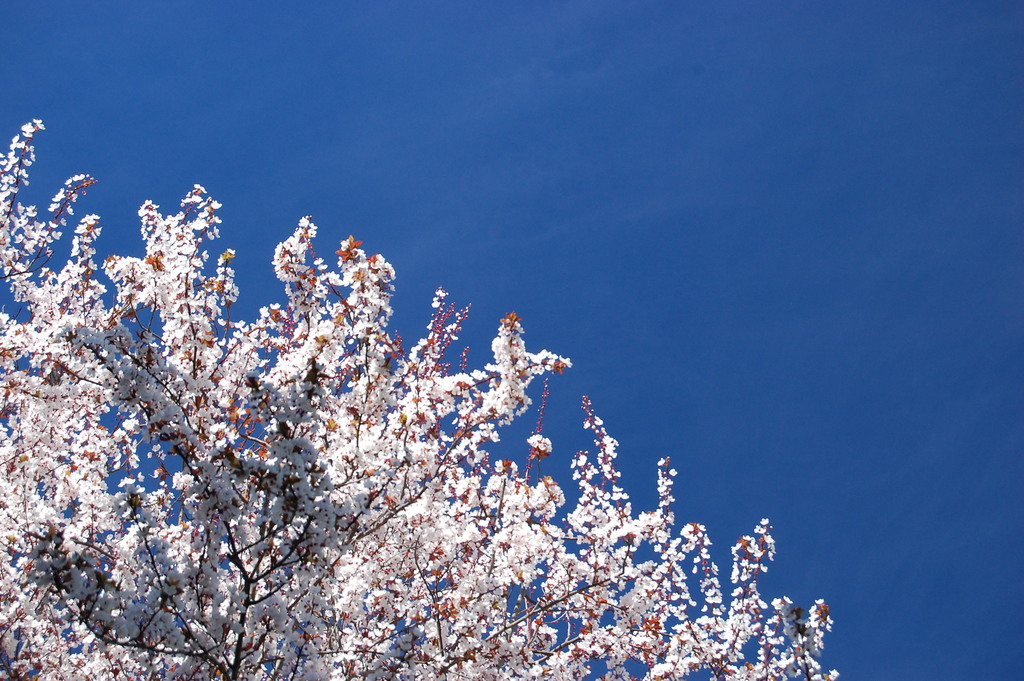Tree: (9, 158, 800, 681)
